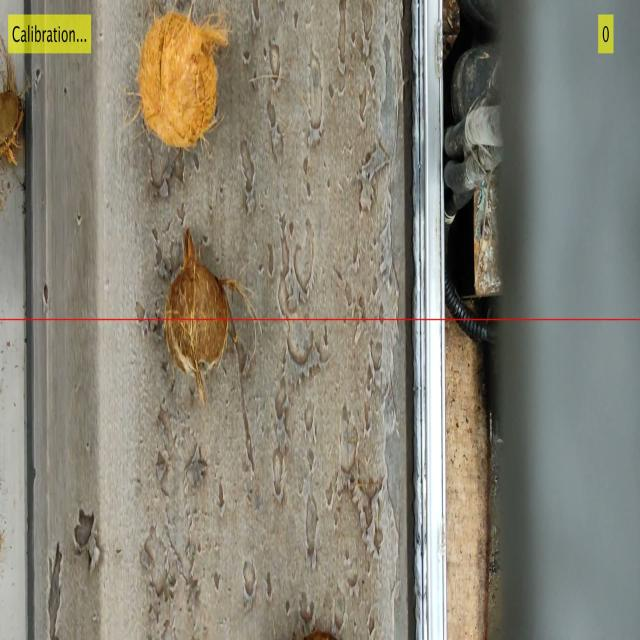Coconut-Conveyor-Belt: (132, 6, 225, 158), (160, 225, 233, 402)
